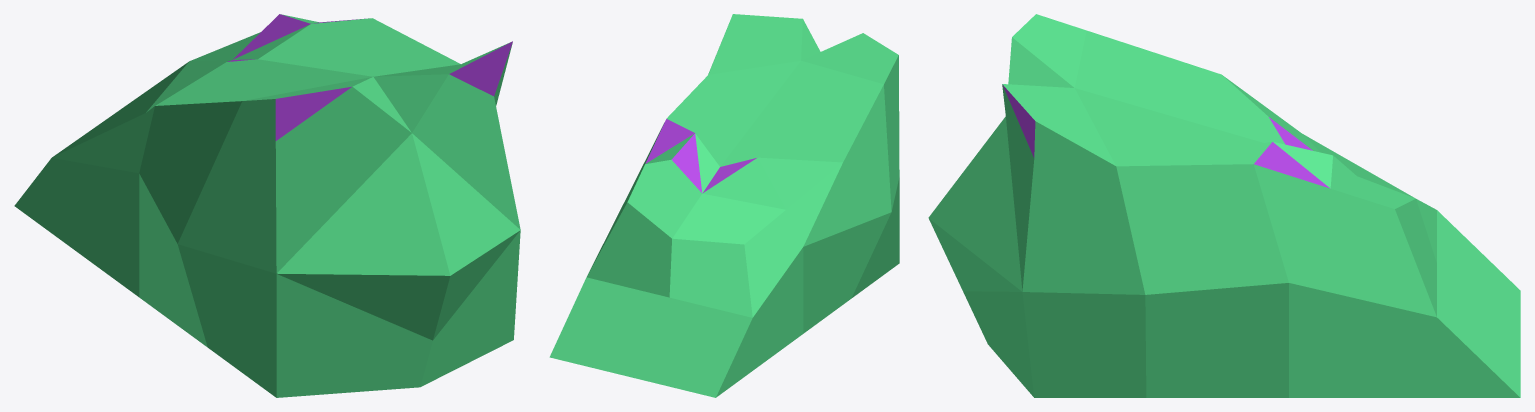
File: EnnemySlug.fbx
The picture shows the model from 3 angles, left to right: view 1: azimuth 30°, elevation 25°; view 2: azimuth 150°, elevation 25°; view 3: azimuth 270°, elevation 25°; orthographic projection. The views are drawn at different scales.
Visible parts, largest first — view 1: Ennemy; view 2: Ennemy; view 3: Ennemy.
Boxes of the visible parts, left/top/right/bottom form: Ennemy: left=14, top=14, right=520, bottom=397; Ennemy: left=549, top=14, right=899, bottom=397; Ennemy: left=928, top=14, right=1520, bottom=397.
Bounding box in the file's own units: 260 × 245 × 466.
